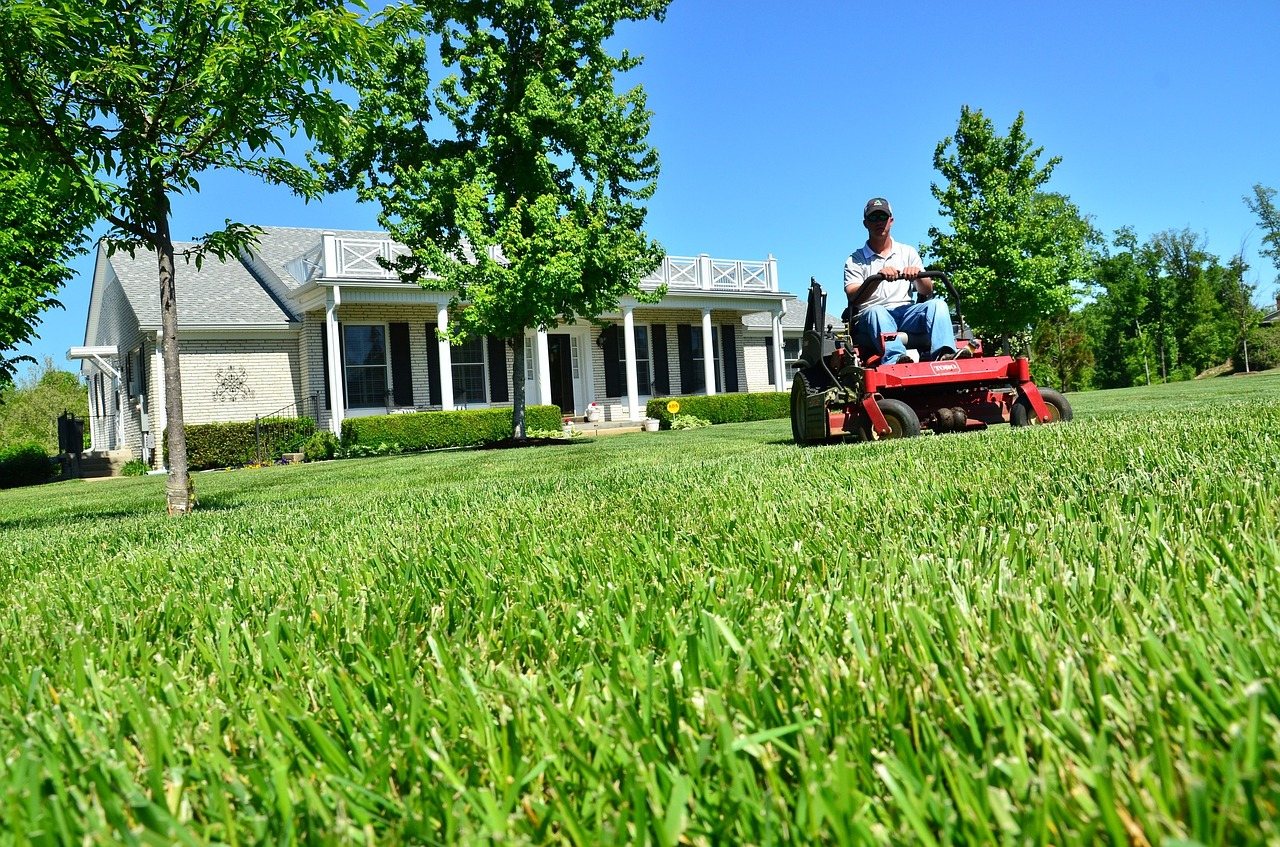grass: (5, 471, 1280, 847)
